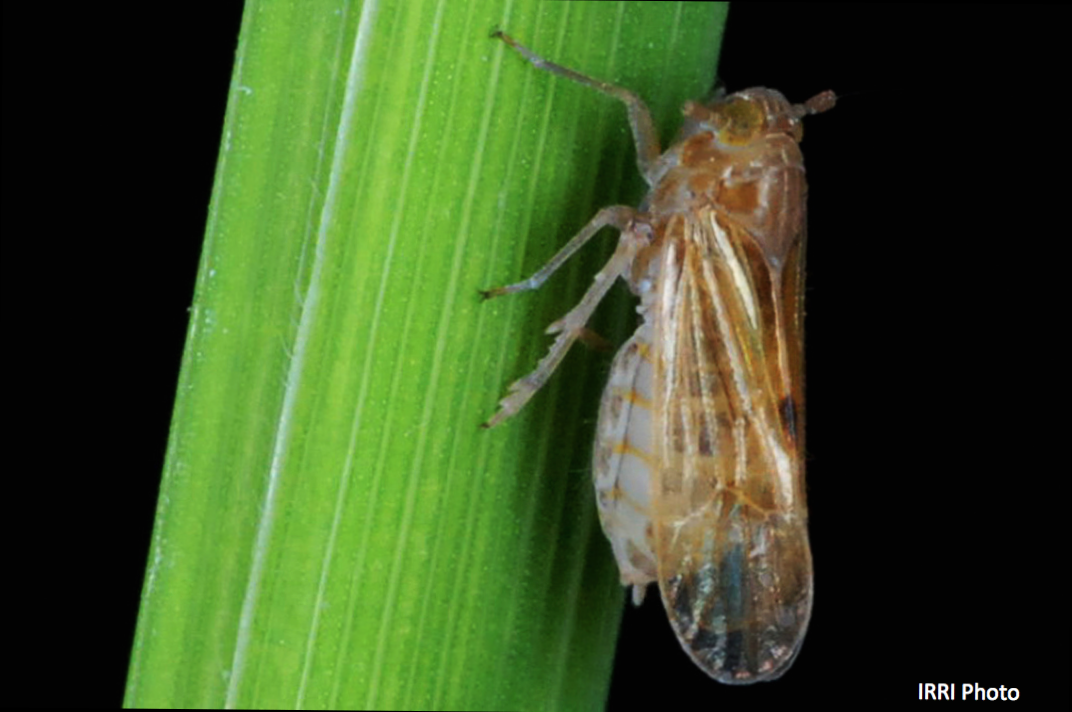Brown_hopper: (527, 55, 854, 682)
